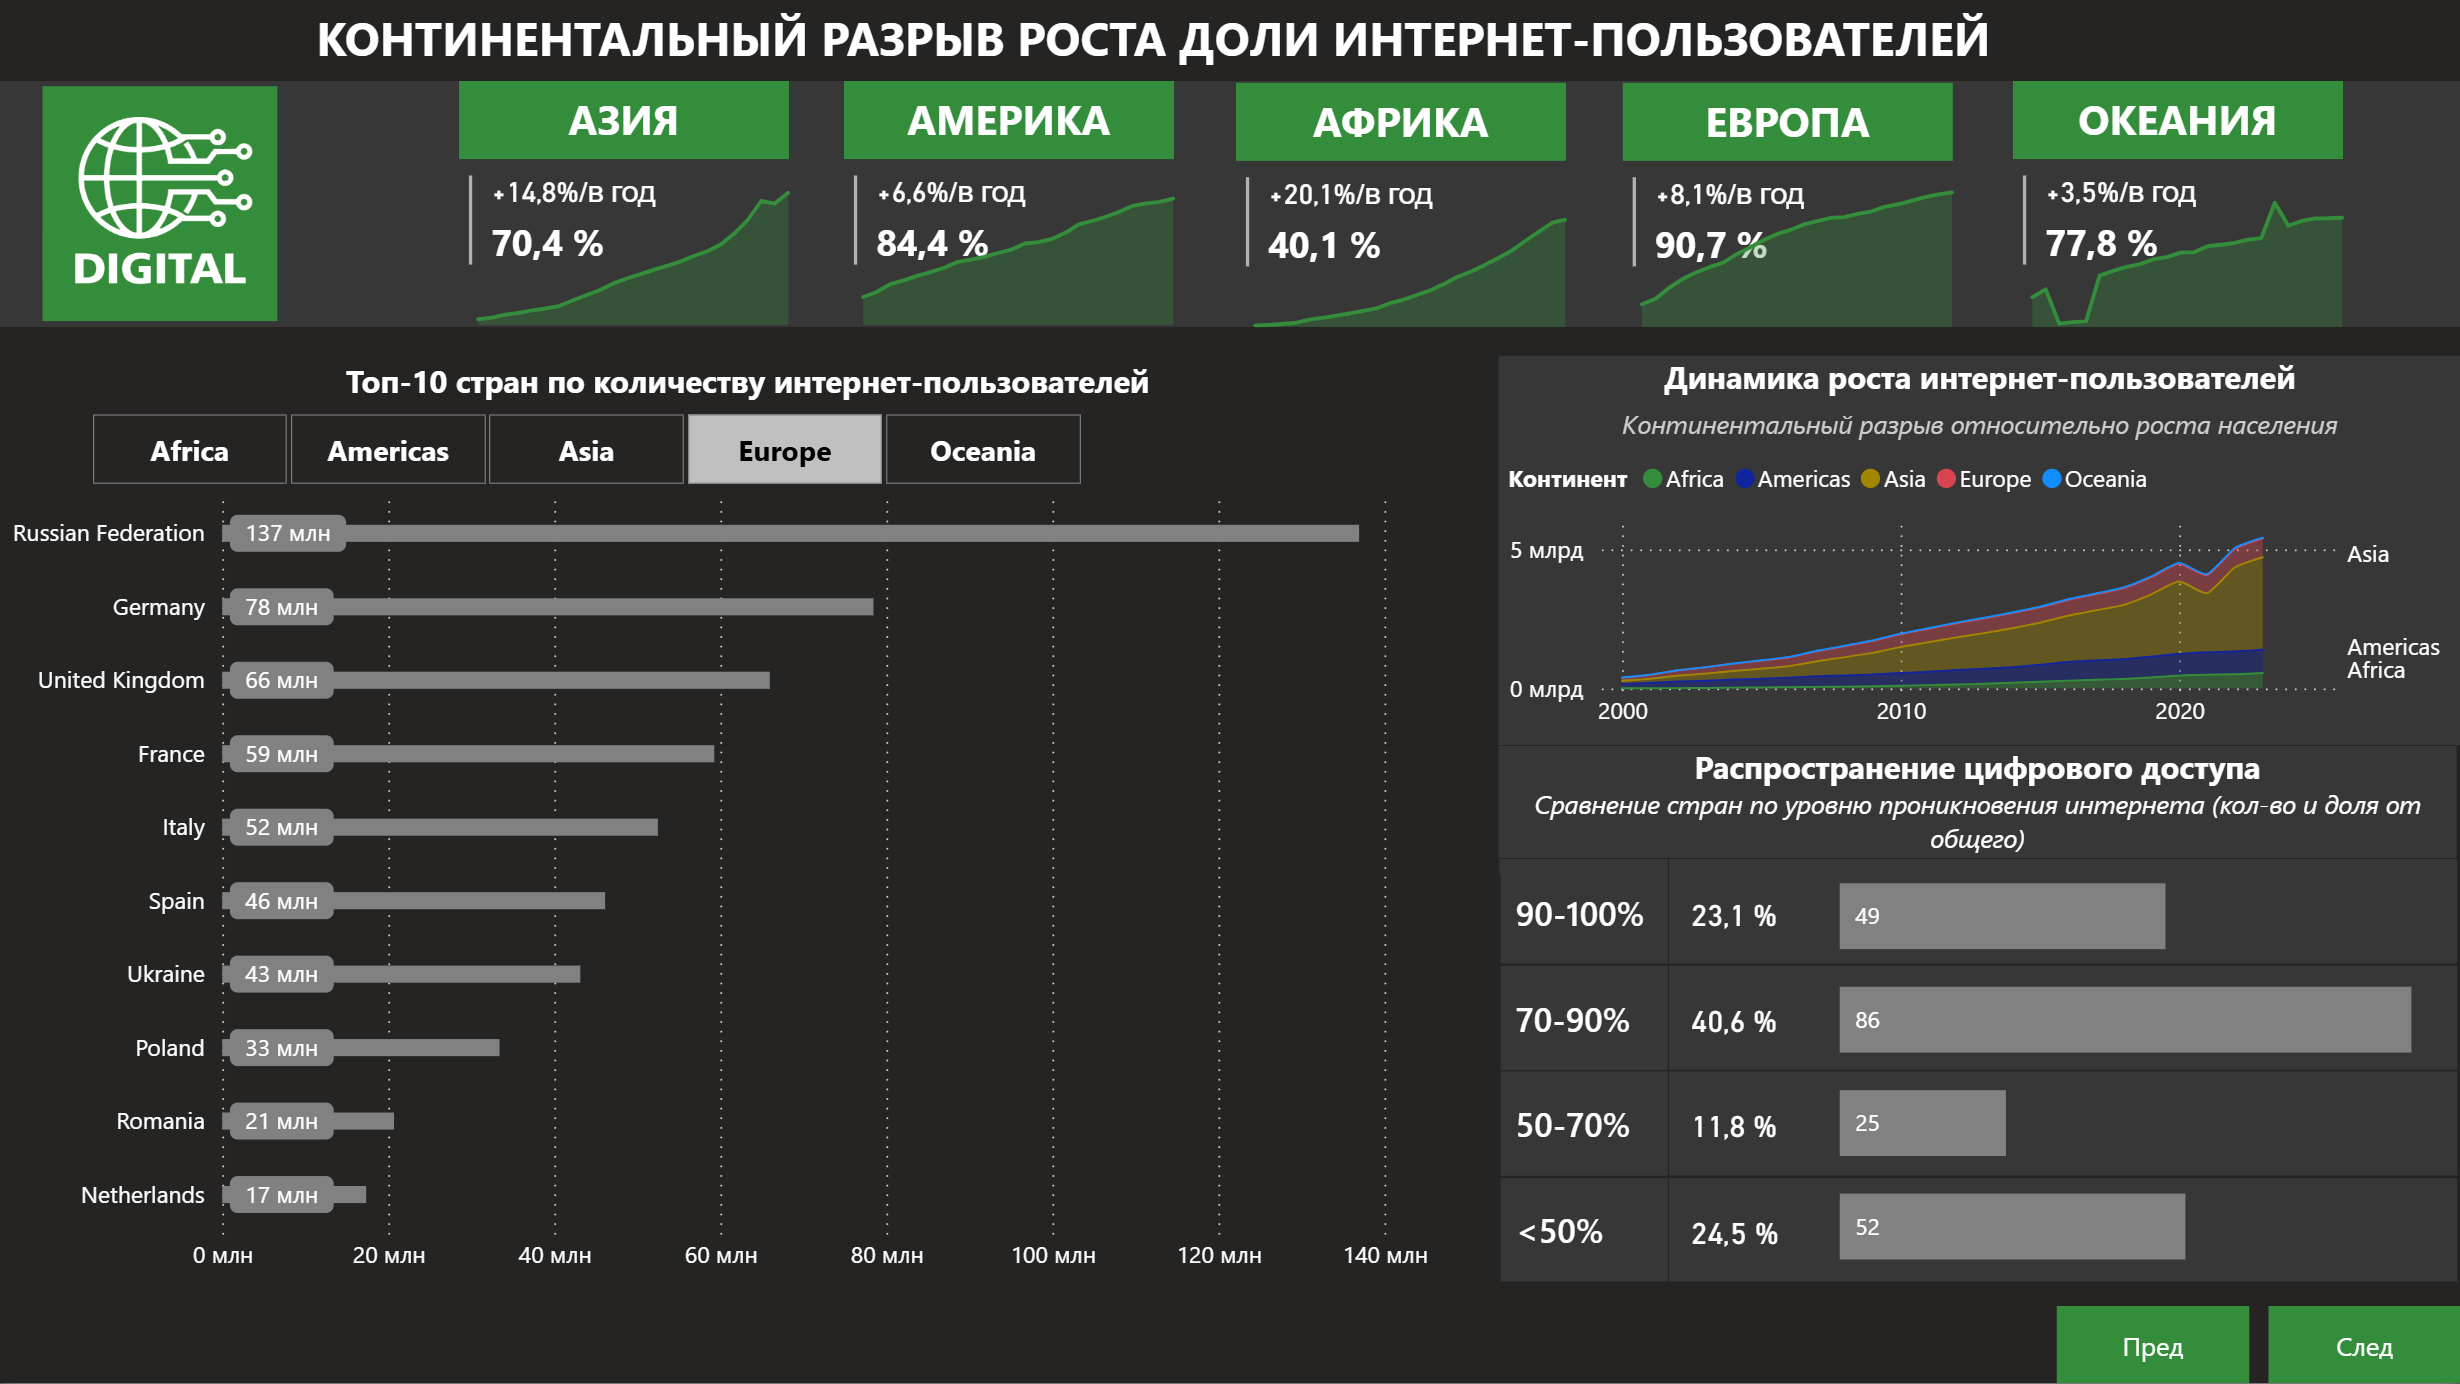

The dashboard page shown, as its layout file describes it:
{"tool":"powerbi","page":{"name":"continental","canvas":[1280,720],"ordinal":2},"visuals":[{"type":"group","id":"g1","title":"header","box":[0,0,1280,171.1],"z":0},{"type":"shape","box":[0,43.3,1280,127.8],"z":0,"group":"g1"},{"type":"group","id":"g2","title":"kpi asia","box":[240.3,43.7,230,128.8],"z":0,"group":"g5"},{"type":"shape","box":[23.6,46,122,122],"z":0,"group":"g7"},{"type":"multiRowCard","title":"океания","fields":{"Values":["calculations.percent_connected","calculations.growth_rate_CAGR_users"]},"box":[1047.9,92.2,171.2,80.6],"z":0,"group":"g10"},{"type":"multiRowCard","title":"америка","fields":{"Values":["calculations.percent_connected","calculations.growth_rate_CAGR_users"]},"box":[440.5,92.4,171.2,80.6],"z":0,"group":"g3"},{"type":"multiRowCard","title":"азия","fields":{"Values":["calculations.percent_connected","calculations.growth_rate_CAGR_users"]},"box":[240.3,92.5,171.2,80.6],"z":0,"group":"g2"},{"type":"multiRowCard","title":"африка","fields":{"Values":["calculations.percent_connected","calculations.growth_rate_CAGR_users"]},"box":[643.5,92.7,171.2,80.6],"z":0,"group":"g6"},{"type":"multiRowCard","title":"европа","fields":{"Values":["calculations.percent_connected","calculations.growth_rate_CAGR_users"]},"box":[844.5,92.7,171.2,80.6],"z":0,"group":"g8"},{"type":"textbox","box":[780,389,497.8,66.6],"z":0,"group":"g9"},{"type":"actionButton","title":"след","box":[1180,680,100,40],"z":0,"group":"g4"},{"type":"textbox","title":"шапка","box":[161.1,0,1118.9,120],"z":1000,"group":"g1"},{"type":"group","id":"g3","title":"kpi americas","box":[440.5,43.6,230,128.7],"z":1000,"group":"g5"},{"type":"image","box":[30.6,50.8,110,109.6],"z":1000,"group":"g7"},{"type":"lineChart","fields":{"Category":["data.Year"],"Y":["calculations.percent_connected"]},"box":[1047.9,84,230,86.9],"z":1000,"group":"g10"},{"type":"lineChart","fields":{"Category":["data.Year"],"Y":["calculations.percent_connected"]},"box":[440.5,84.2,230,86.9],"z":1000,"group":"g3"},{"type":"lineChart","fields":{"Category":["data.Year"],"Y":["calculations.percent_connected"]},"box":[240.3,84.3,230,86.9],"z":1000,"group":"g2"},{"type":"lineChart","fields":{"Category":["data.Year"],"Y":["calculations.percent_connected"]},"box":[643.5,84.5,230,86.9],"z":1000,"group":"g6"},{"type":"lineChart","fields":{"Category":["data.Year"],"Y":["calculations.percent_connected"]},"box":[844.5,84.5,230,86.9],"z":1000,"group":"g8"},{"type":"cardVisual","fields":{"Rows":["category_table.Category"],"Data":["calculation_continental.penetration_ratio"]},"box":[780,427.2,499.8,261.8],"z":1000,"group":"g9"},{"type":"group","id":"g4","title":"nav","box":[1070,680,210,40],"z":1000},{"type":"actionButton","title":"пред","box":[1070,680,100,40],"z":1000,"group":"g4"},{"type":"group","id":"g5","title":"kpi","box":[240.3,43.4,1037.6,129.4],"z":2000},{"type":"textbox","box":[1047.9,43.4,171.2,40.6],"z":2000,"group":"g10"},{"type":"textbox","box":[440.5,43.6,171.2,40.6],"z":2000,"group":"g3"},{"type":"textbox","box":[240.3,43.7,171.2,40.6],"z":2000,"group":"g2"},{"type":"group","id":"g6","title":"kpi africa","box":[643.5,43.9,230,128.9],"z":2000,"group":"g5"},{"type":"textbox","box":[643.5,43.9,171.2,40.6],"z":2000,"group":"g6"},{"type":"textbox","box":[844.5,43.9,171.2,40.6],"z":2000,"group":"g8"},{"type":"group","id":"g7","title":"лого","box":[23.6,46,122,122],"z":2000,"group":"g1"},{"type":"barChart","fields":{"Category":["category_table.Category"],"Y":["calculation_continental.countries_by_category"]},"box":[957.5,447.3,319.6,216.3],"z":2000,"group":"g9"},{"type":"group","id":"g8","title":"kpi europe","box":[844.5,43.9,230,128.9],"z":3000,"group":"g5"},{"type":"group","id":"g9","title":"категория","box":[780,389,500,291],"z":3000},{"type":"group","id":"g10","title":"kpi oceania","box":[1047.9,43.4,230,128],"z":4000,"group":"g5"},{"type":"stackedAreaChart","title":"Динамика роста интернет-пользователей","fields":{"Category":["data.Year"],"Series":["regions.Continent"],"Y":["calculations_global.connected_people"]},"box":[780,186.2,500,202.5],"z":4000},{"type":"slicer","fields":{"Values":["regions.Continent"]},"box":[23.3,210,563.3,50],"z":6000},{"type":"clusteredBarChart","fields":{"Category":["regions.Country Name"],"Y":["calculations_global.connected_people"]},"box":[0,251.1,780,415.6],"z":7000},{"type":"textbox","box":[0,183.3,780,41.1],"z":8000}]}

Visuals, with their boxes in screenshot pixels (x1, y1, x2, y2), scaled from the page's 1280x720 canvas onto the 2460x1384 screenshot:
"header" group: x1=0, y1=0, x2=2459, y2=329
shape: x1=0, y1=83, x2=2459, y2=329
"kpi asia" group: x1=462, y1=84, x2=904, y2=332
shape: x1=45, y1=88, x2=280, y2=323
"океания" multiRowCard: x1=2014, y1=177, x2=2343, y2=332
"америка" multiRowCard: x1=847, y1=178, x2=1176, y2=333
"азия" multiRowCard: x1=462, y1=178, x2=791, y2=333
"африка" multiRowCard: x1=1237, y1=178, x2=1566, y2=333
"европа" multiRowCard: x1=1623, y1=178, x2=1952, y2=333
textbox: x1=1499, y1=748, x2=2456, y2=876
"след" actionButton: x1=2268, y1=1307, x2=2459, y2=1383
"шапка" textbox: x1=310, y1=0, x2=2459, y2=231
"kpi americas" group: x1=847, y1=84, x2=1289, y2=331
image: x1=59, y1=98, x2=270, y2=308
lineChart - data.Year x calculations.percent_connected: x1=2014, y1=161, x2=2456, y2=329
lineChart - data.Year x calculations.percent_connected: x1=847, y1=162, x2=1289, y2=329
lineChart - data.Year x calculations.percent_connected: x1=462, y1=162, x2=904, y2=329
lineChart - data.Year x calculations.percent_connected: x1=1237, y1=162, x2=1679, y2=329
lineChart - data.Year x calculations.percent_connected: x1=1623, y1=162, x2=2065, y2=329
cardVisual - category_table.Category x calculation_continental.penetration_ratio: x1=1499, y1=821, x2=2459, y2=1324
"nav" group: x1=2056, y1=1307, x2=2459, y2=1383
"пред" actionButton: x1=2056, y1=1307, x2=2249, y2=1383
"kpi" group: x1=462, y1=83, x2=2456, y2=332
textbox: x1=2014, y1=83, x2=2343, y2=161
textbox: x1=847, y1=84, x2=1176, y2=162
textbox: x1=462, y1=84, x2=791, y2=162
"kpi africa" group: x1=1237, y1=84, x2=1679, y2=332
textbox: x1=1237, y1=84, x2=1566, y2=162
textbox: x1=1623, y1=84, x2=1952, y2=162
"лого" group: x1=45, y1=88, x2=280, y2=323
barChart - category_table.Category x calculation_continental.countries_by_category: x1=1840, y1=860, x2=2454, y2=1276
"kpi europe" group: x1=1623, y1=84, x2=2065, y2=332
"категория" group: x1=1499, y1=748, x2=2459, y2=1307
"kpi oceania" group: x1=2014, y1=83, x2=2456, y2=329
"Динамика роста интернет-пользователей" stackedAreaChart: x1=1499, y1=358, x2=2459, y2=747
slicer - regions.Continent: x1=45, y1=404, x2=1127, y2=500
clusteredBarChart - regions.Country Name x calculations_global.connected_people: x1=0, y1=483, x2=1499, y2=1282
textbox: x1=0, y1=352, x2=1499, y2=431
